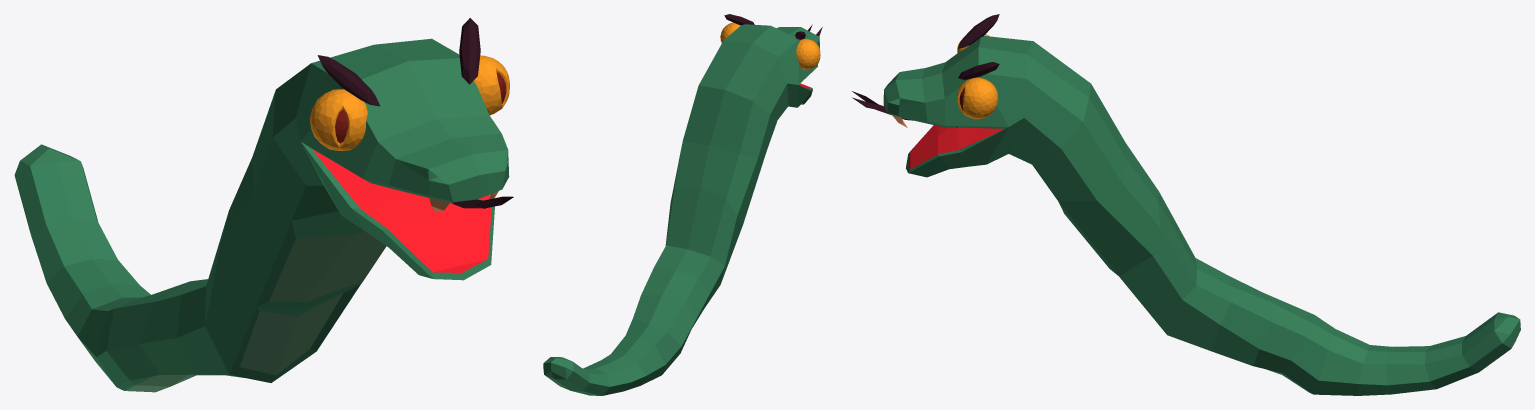
Rendered from Snake_Angry_000009.obj.
3 renders of one model, left to right at view 1: azimuth 30°, elevation 25°; view 2: azimuth 150°, elevation 25°; view 3: azimuth 270°, elevation 25°, orthographic. The views are drawn at different scales.
Parts seen in each view (by area): view 1: Snake_Cylinder; view 2: Snake_Cylinder; view 3: Snake_Cylinder.
Boxes of the visible parts, x1=… form: Snake_Cylinder: x1=14, y1=18, x2=513, y2=392; Snake_Cylinder: x1=543, y1=14, x2=822, y2=395; Snake_Cylinder: x1=852, y1=14, x2=1520, y2=395.
Bounding box in the file's own units: 1.05 × 2.74 × 4.73.
